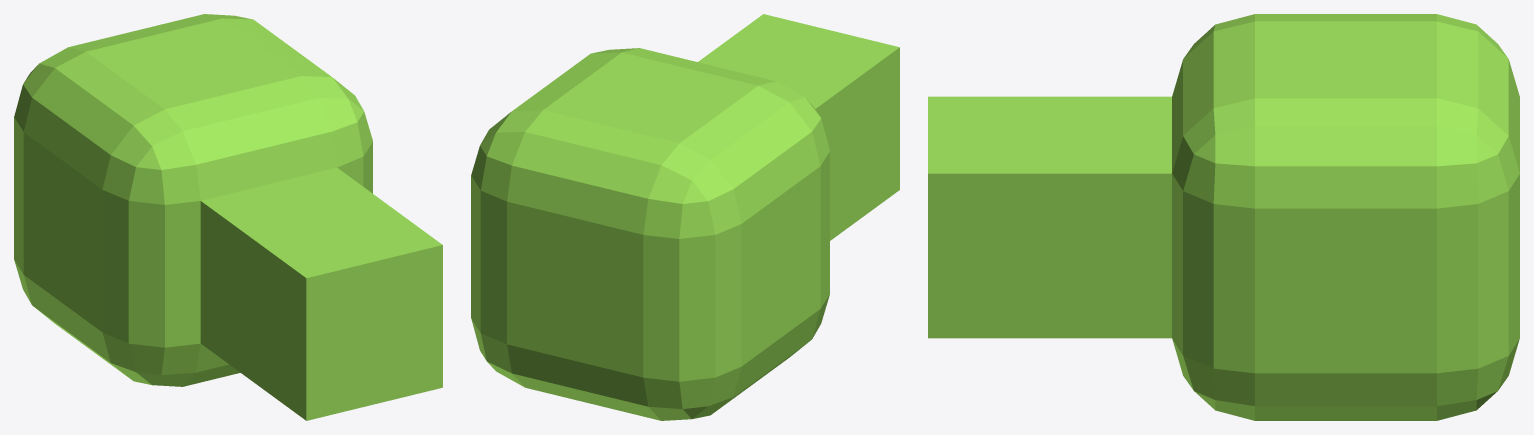
Rendered from Testing.glb.
3 renders of one model, left to right at view 1: azimuth 30°, elevation 25°; view 2: azimuth 150°, elevation 25°; view 3: azimuth 270°, elevation 25°, orthographic. The views are drawn at different scales.
Visible parts, largest first — view 1: Cube; view 2: Cube; view 3: Cube.
Boxes of the visible parts, left/top/right/bottom form: Cube: left=14, top=14, right=442, bottom=420; Cube: left=471, top=14, right=899, bottom=420; Cube: left=928, top=14, right=1519, bottom=420.
Bounding box in the file's own units: 2 × 2 × 3.4.
